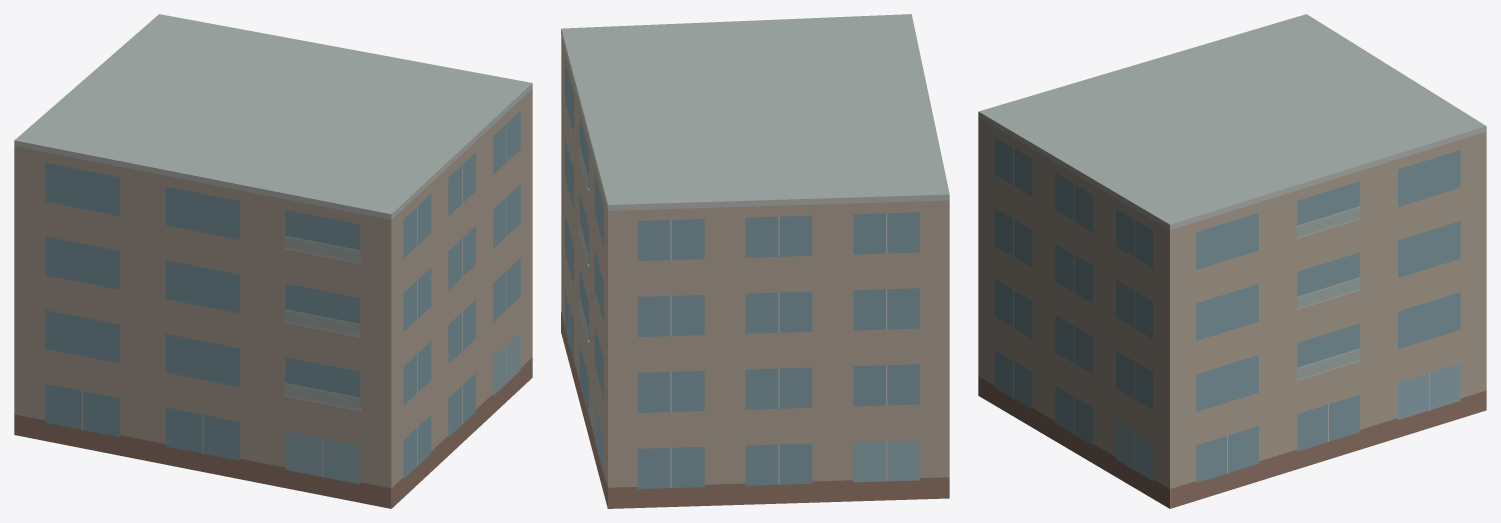
The model's file is survey-upis-32946870.glb.
3 views of the same model, side by side, from view 1: azimuth 30°, elevation 25°; view 2: azimuth 150°, elevation 25°; view 3: azimuth 270°, elevation 25° (orthographic). The views are drawn at different scales.
Visible parts, largest first — view 1: survey-upis-32946870.tmp; view 2: survey-upis-32946870.tmp; view 3: survey-upis-32946870.tmp.
Part boxes in pixels (x1=…): survey-upis-32946870.tmp: x1=14, y1=14, x2=532, y2=508; survey-upis-32946870.tmp: x1=561, y1=14, x2=949, y2=508; survey-upis-32946870.tmp: x1=978, y1=14, x2=1486, y2=508.
Bounding box in the file's own units: 20.2 × 12.7 × 20.59.
